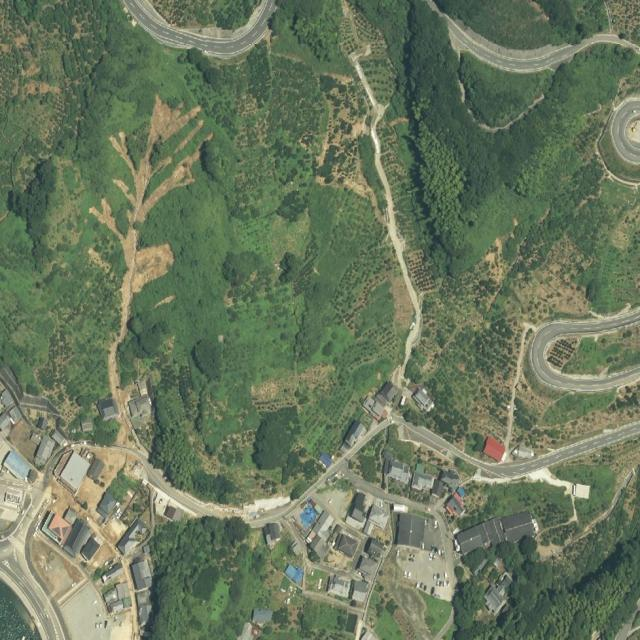landslide: (88, 94, 211, 388)
